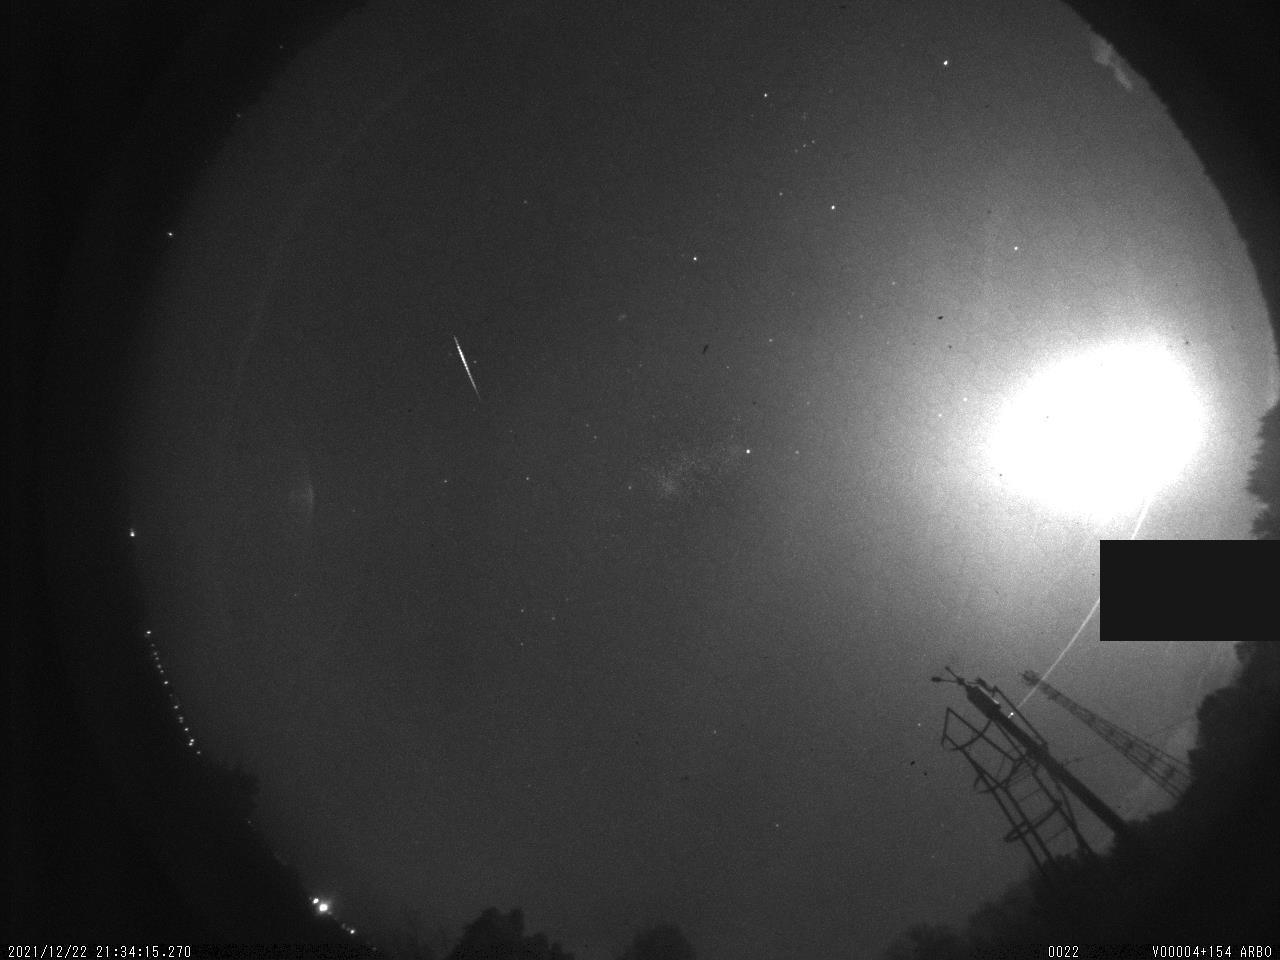meteor: (439, 332, 504, 399)
